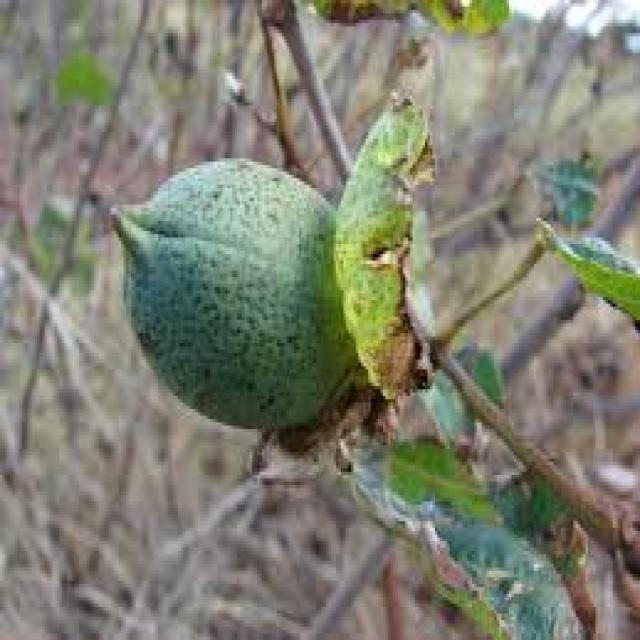Early Boll: (111, 146, 404, 448)
